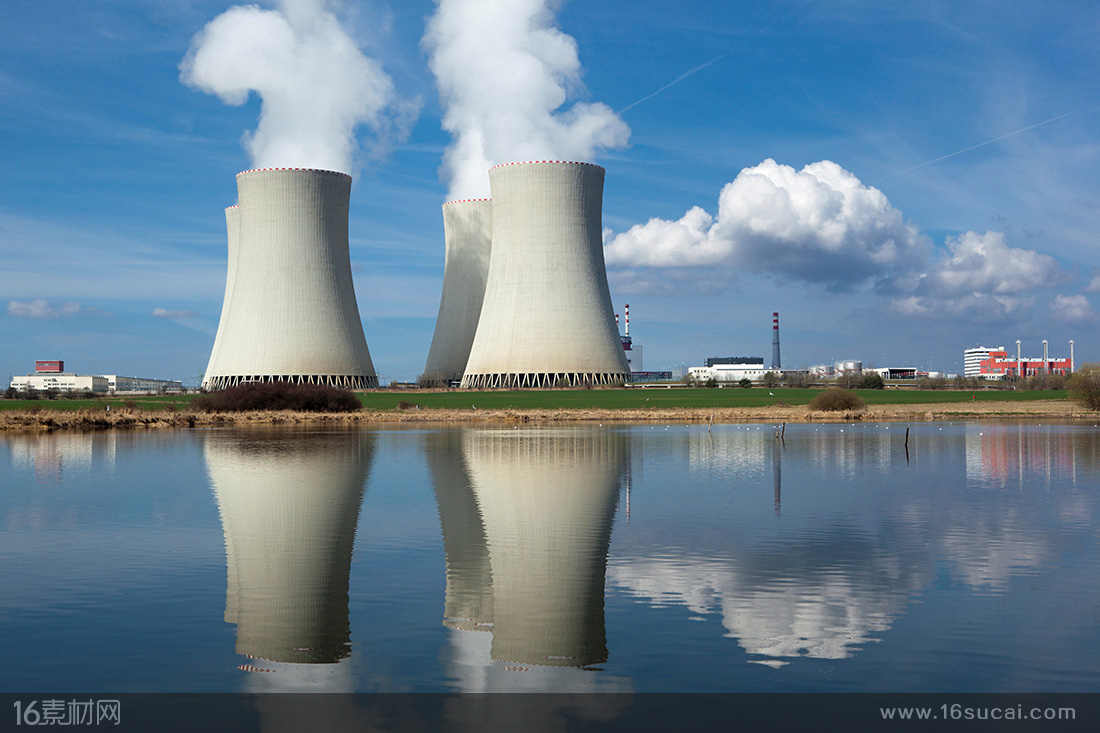dust: (412, 4, 639, 217), (163, 12, 394, 200)
